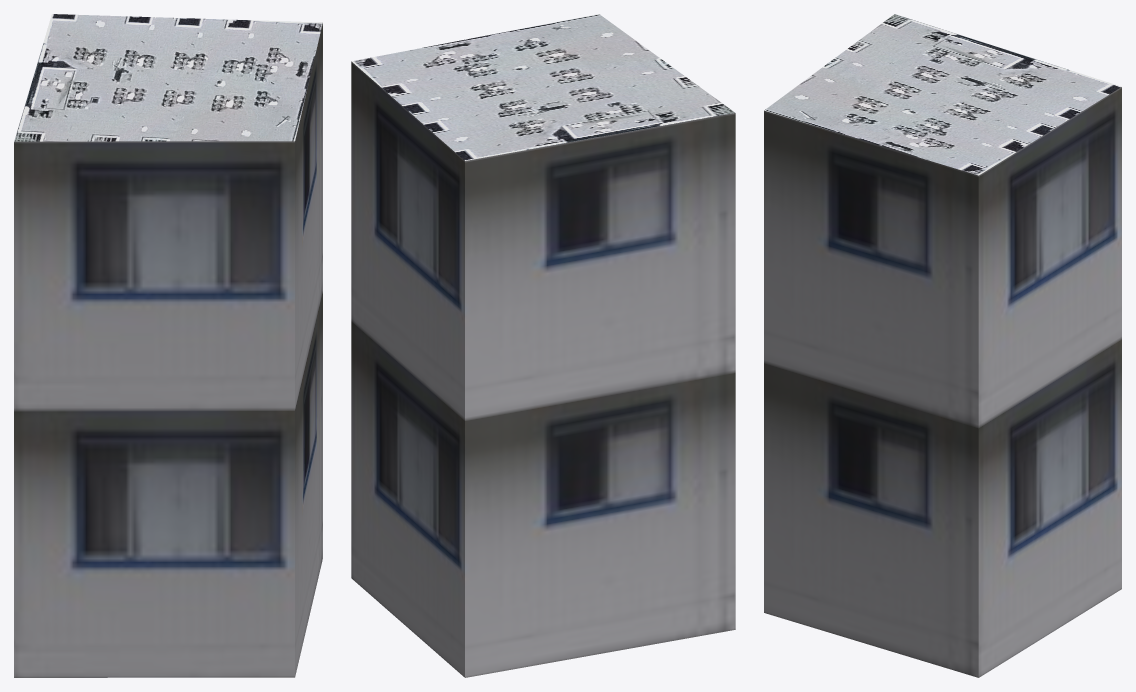
Rendered from ResTex__986.fbx.
3 views of the same model, side by side, from view 1: azimuth 30°, elevation 25°; view 2: azimuth 150°, elevation 25°; view 3: azimuth 270°, elevation 25° (orthographic). The views are drawn at different scales.
Visible parts, largest first — view 1: CityEngineMaterial_9_m, CityEngineMaterial_8_m; view 2: CityEngineMaterial_9_m, CityEngineMaterial_8_m; view 3: CityEngineMaterial_9_m, CityEngineMaterial_8_m.
Part boxes in pixels (bbox=[...]): CityEngineMaterial_9_m: bbox=[14, 23, 322, 677]; CityEngineMaterial_8_m: bbox=[14, 14, 322, 141]; CityEngineMaterial_9_m: bbox=[351, 61, 735, 677]; CityEngineMaterial_8_m: bbox=[352, 14, 735, 160]; CityEngineMaterial_9_m: bbox=[764, 87, 1121, 677]; CityEngineMaterial_8_m: bbox=[764, 14, 1121, 175].
Size of the model in its own units: 4.14 by 6 by 3.87.
2 materials, 2 textured.
